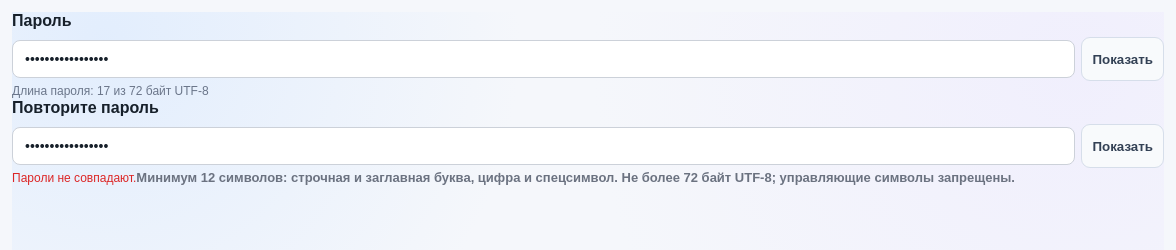
Test: PasswordFields security UI › shows byte length, mismatch and independently reveals password fields
This screenshot has width=1176, height=250.
Expected: the text "Пароли не совпадают." is shown, [12,171,136,185]
Expected: the text "Длина пароля: 17 из 72 байт UTF-8" is shown, [12,84,209,98]
Step 1. Click the button with aria-label "Показать пароль" → (1123, 59), box [1081,37,1164,81]
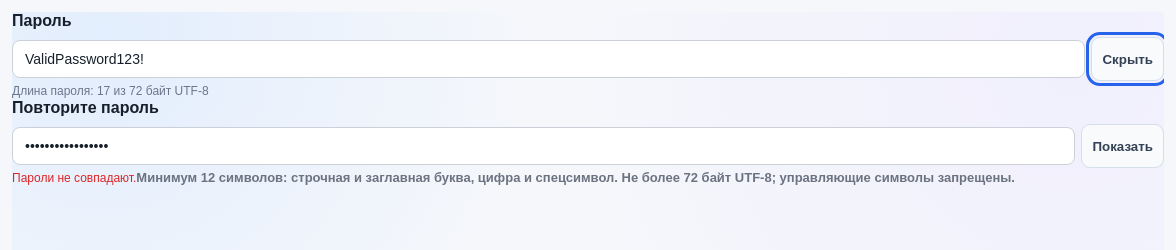
Expected: the button with aria-label "Показать подтверждение" is shown, [1081,124,1164,168]
Expected: the button with aria-label "Скрыть пароль" is shown, [1092,37,1164,81]
